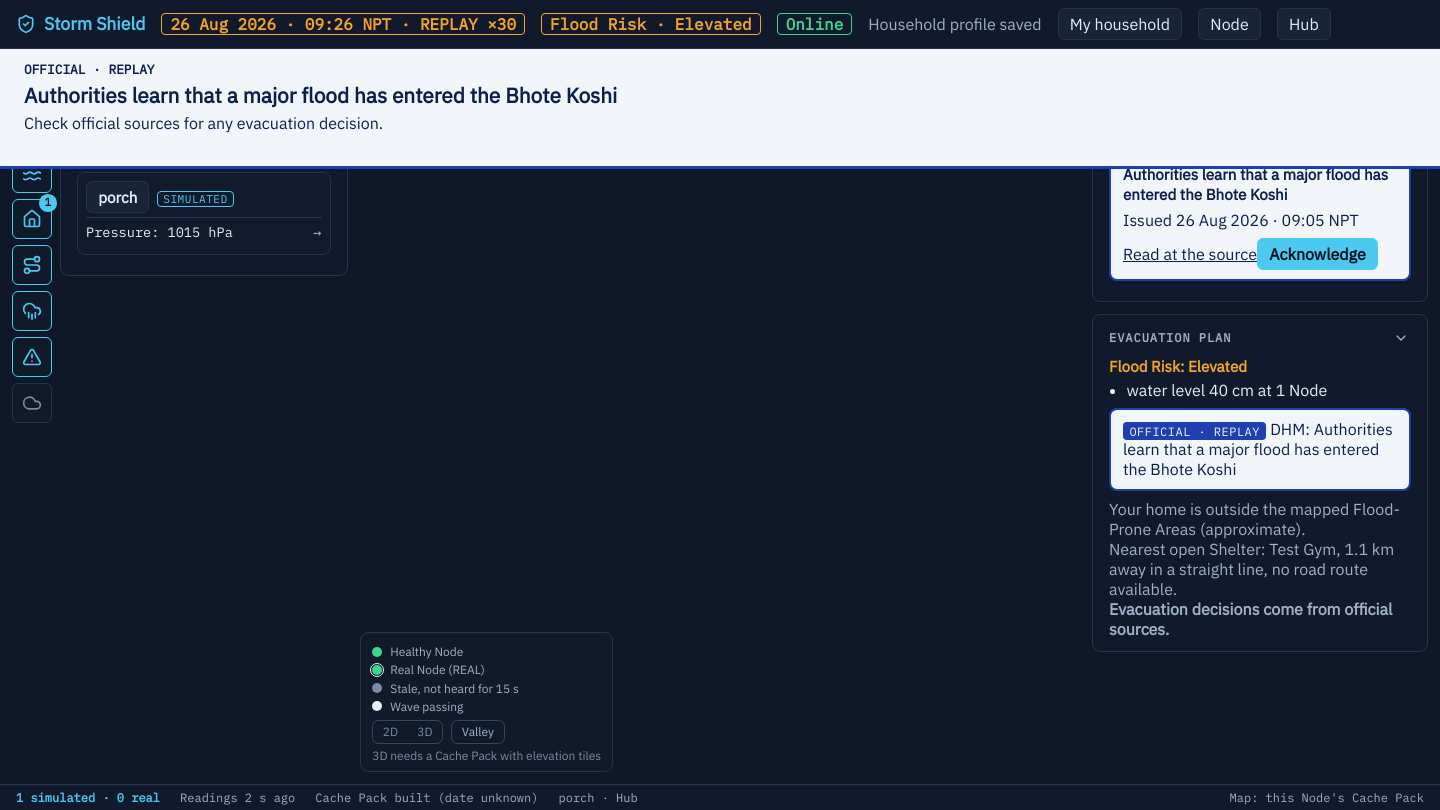
Test: back from unreachable, the Replay controls wait for the Event clock, never offering Start
This screenshot has width=1440, height=810.
Expected: the text "Pressure: 1015 hPa" is shown, [86, 223, 233, 241]
Expected: the text "26 Aug 2026 · 09:26 NPT · REPLAY ×30" is shown, [161, 13, 525, 35]
Step 1. Click the button "Hub" → coordinates (1304, 24), box [1277, 8, 1331, 40]
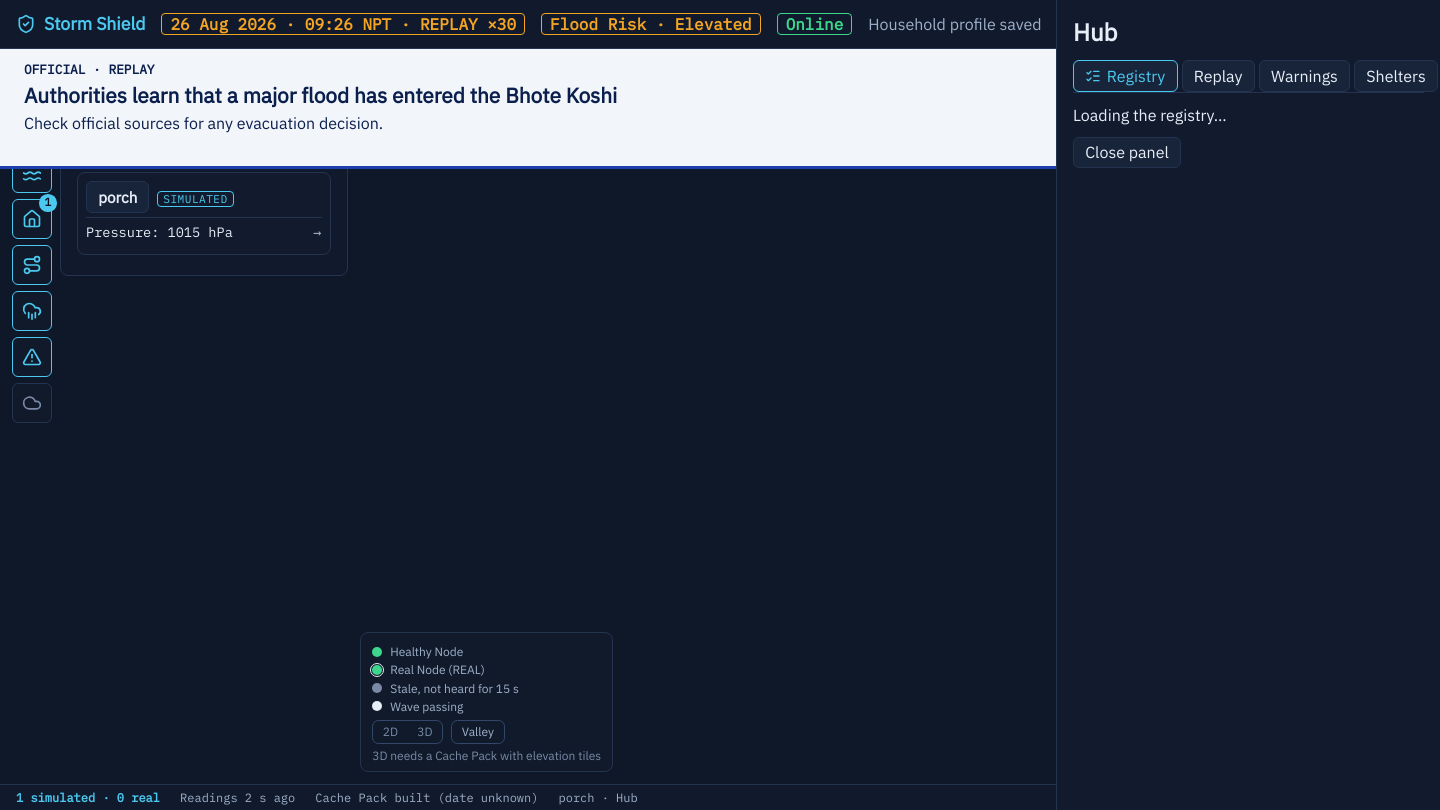
Step 2. Click the tab "Replay" → coordinates (1218, 76), box [1182, 60, 1255, 92]
Wait 8000 ms
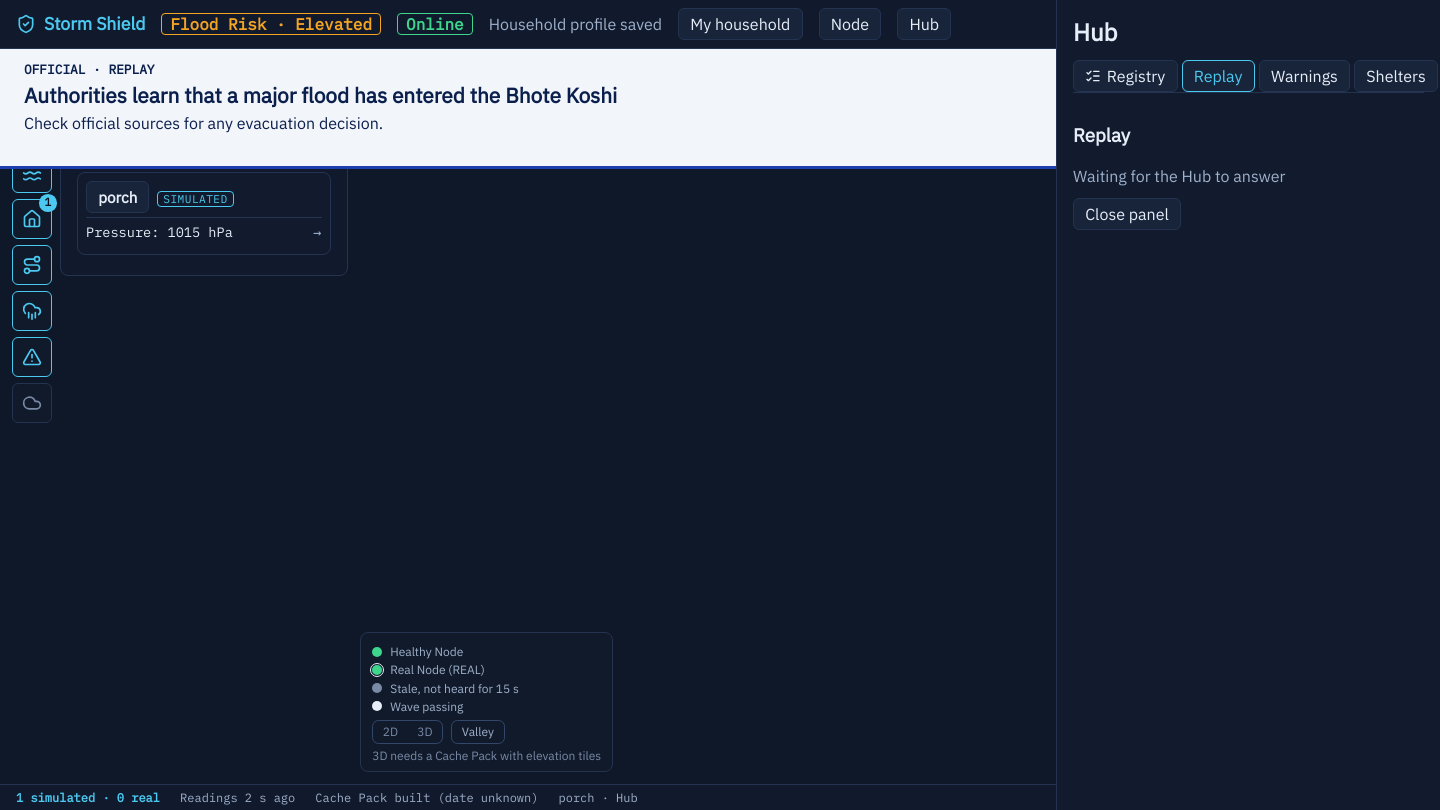
Expected: the text "Pressure: 1015 hPa" is shown, [86, 223, 233, 241]
Result: the text "Waiting for the Hub to answer" is shown at [1073, 166, 1286, 186]
